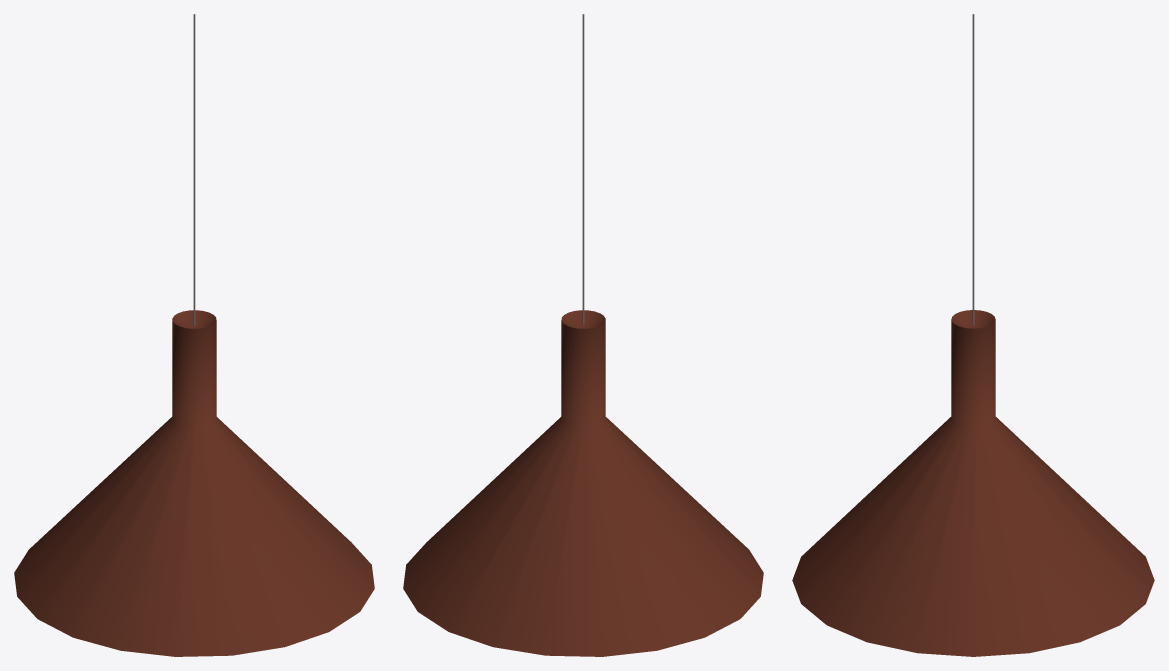
Rendered from Luminaria.obj.
3 views of the same model, side by side, from view 1: azimuth 30°, elevation 25°; view 2: azimuth 150°, elevation 25°; view 3: azimuth 270°, elevation 25° (orthographic).
Visible parts, largest first — view 1: pCylinder1, pCylinder2; view 2: pCylinder1, pCylinder2; view 3: pCylinder1, pCylinder2.
Boxes of the visible parts, x1,y1,x2,y2 form: pCylinder1: (14,310,374,656); pCylinder2: (193,14,195,325); pCylinder1: (403,310,763,656); pCylinder2: (582,14,584,325); pCylinder1: (792,310,1154,656); pCylinder2: (972,14,974,325).
Size of the model in its own units: 4 by 6.89 by 4.
